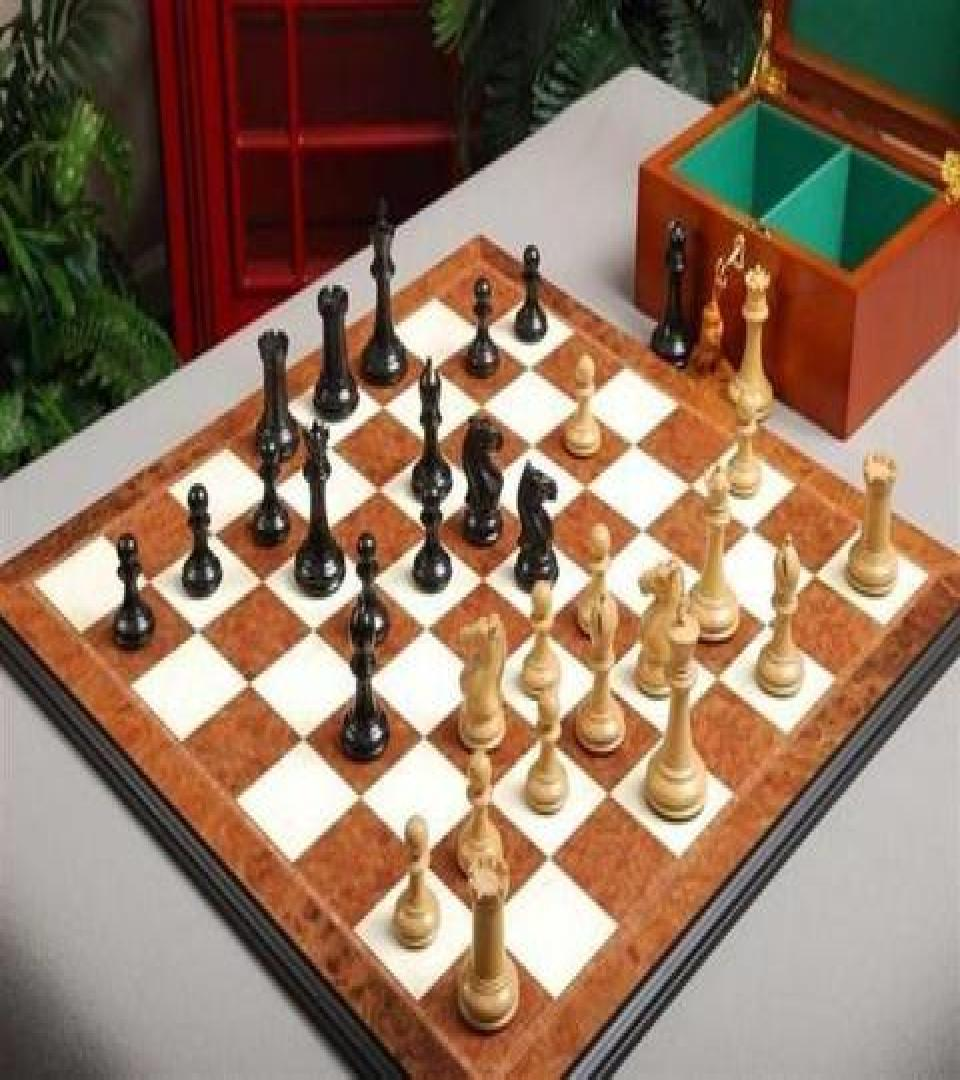xcorner: (473, 313, 491, 344), (136, 570, 154, 600), (185, 619, 203, 649), (236, 671, 254, 701), (475, 909, 493, 939), (248, 568, 266, 598), (301, 617, 319, 647), (355, 669, 373, 699), (413, 723, 431, 753), (475, 780, 493, 810), (540, 842, 558, 872), (259, 476, 277, 506), (309, 520, 327, 550), (361, 567, 379, 597), (474, 666, 492, 696), (536, 721, 554, 751), (601, 778, 619, 808), (317, 433, 335, 463), (367, 474, 385, 504), (419, 518, 437, 548), (532, 612, 550, 642), (593, 664, 611, 694), (658, 718, 676, 748), (371, 391, 389, 421), (421, 431, 439, 461), (474, 473, 492, 503), (529, 516, 547, 546), (587, 562, 605, 592), (712, 662, 730, 692), (423, 352, 441, 382), (473, 389, 491, 419), (526, 430, 544, 460), (581, 472, 599, 502), (638, 515, 656, 545), (699, 560, 717, 590), (763, 609, 781, 639), (523, 350, 541, 380), (575, 388, 593, 418), (630, 428, 648, 458), (687, 470, 705, 500), (748, 514, 766, 544), (291, 725, 309, 754), (349, 784, 367, 813), (410, 844, 428, 873), (199, 522, 217, 551), (416, 616, 434, 645), (474, 564, 492, 593), (647, 611, 665, 640), (811, 559, 829, 588)
